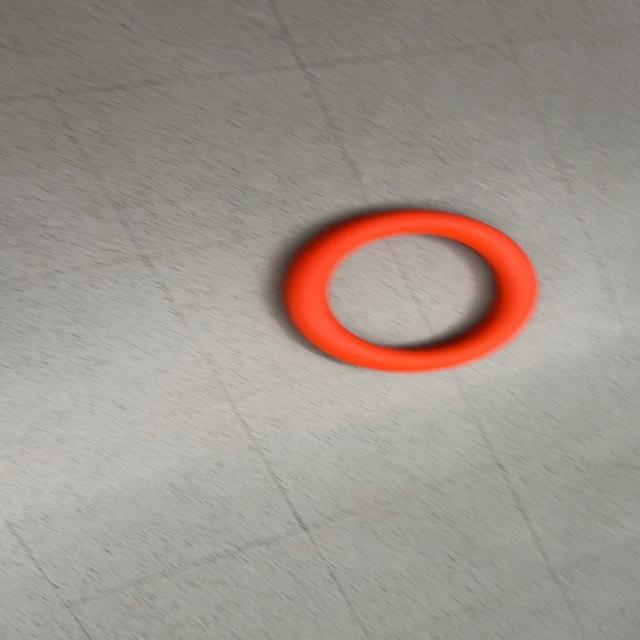note: (280, 207, 542, 375)
